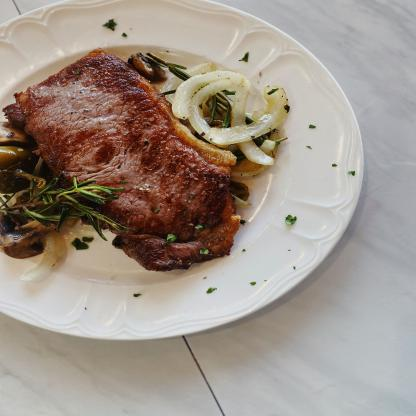Carne: (0, 46, 246, 273)
